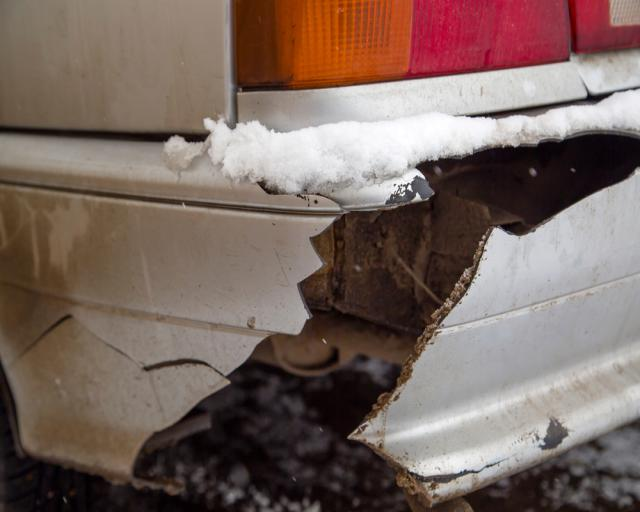crack: (7, 130, 640, 486), (406, 454, 513, 483)
